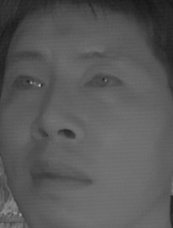eye: (85, 68, 124, 93), (10, 71, 47, 97)
mouth: (26, 155, 95, 201)
